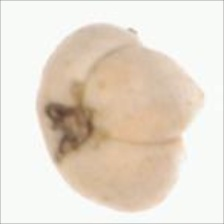L5: (82, 42, 207, 147), (39, 79, 108, 165), (181, 55, 208, 139)
L6: (36, 20, 211, 214)
